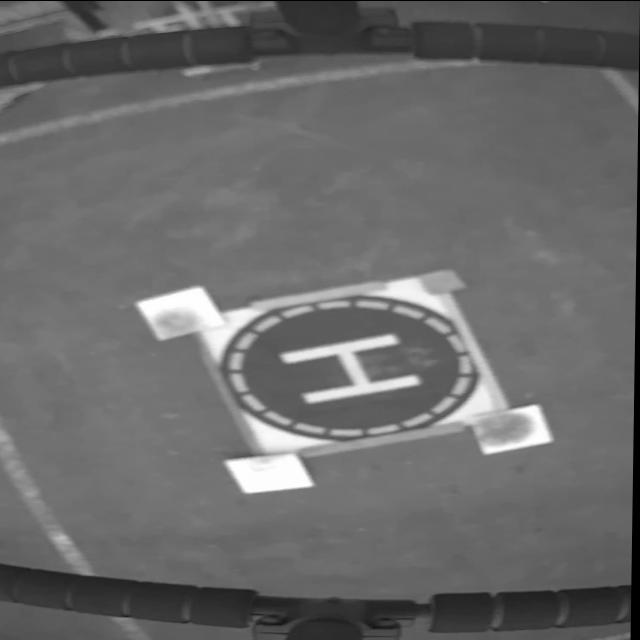Helipad: (282, 331, 422, 404)
